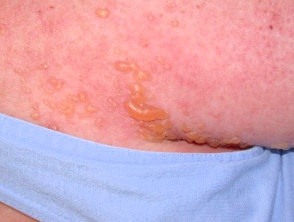SJS-TEN: (15, 0, 294, 156)
